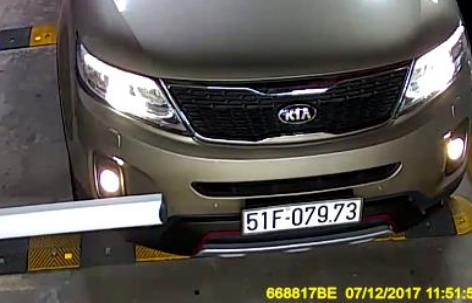plate: (237, 186, 364, 237)
